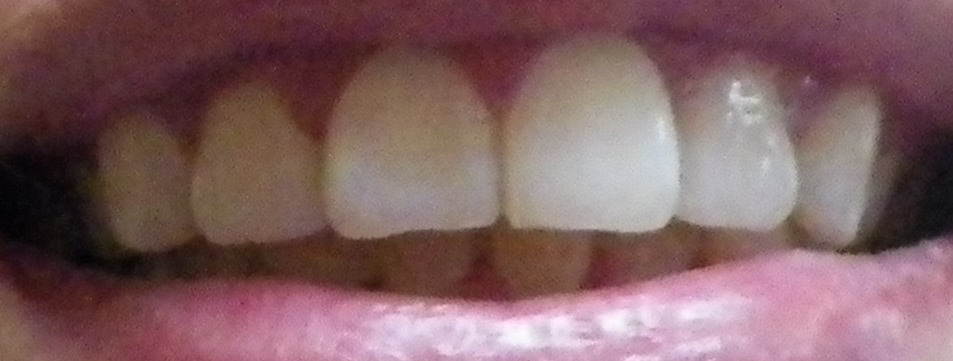boca: (71, 39, 926, 293)
